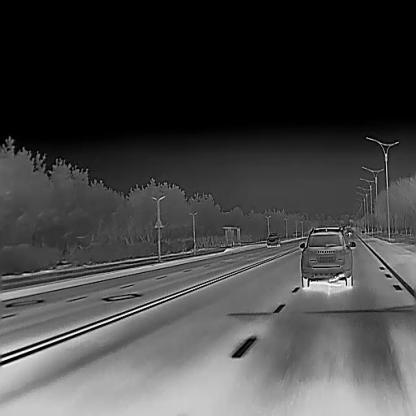car: (299, 226, 357, 286), (266, 231, 280, 246), (346, 229, 352, 235)
